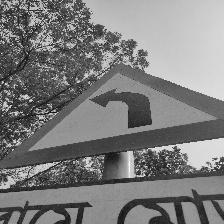Left-Turn: (0, 64, 222, 220)
